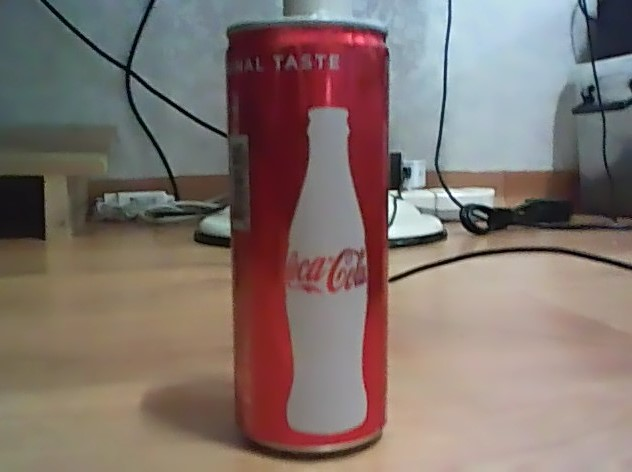Can: (215, 11, 398, 463)
